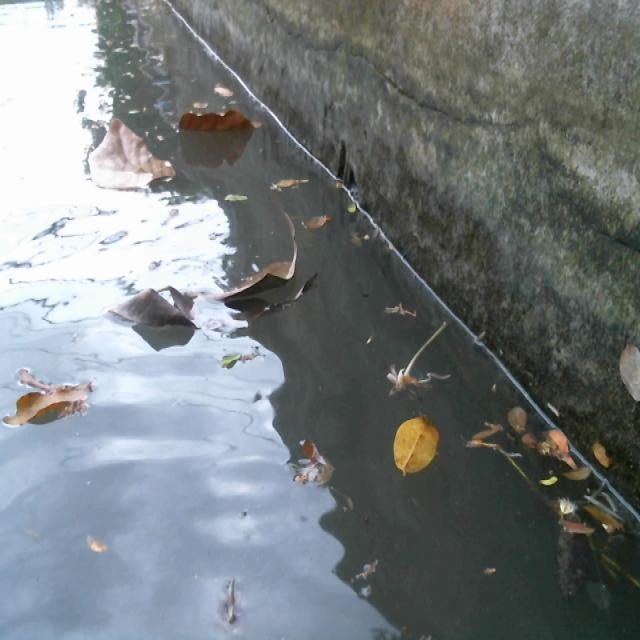Big-leaf: (101, 212, 302, 337), (72, 112, 179, 201), (2, 360, 98, 436), (182, 110, 267, 138)
Small-leaf: (392, 414, 472, 478), (285, 424, 339, 485), (552, 424, 593, 477), (392, 294, 442, 337), (497, 395, 542, 442), (220, 332, 275, 367), (213, 570, 245, 629), (555, 512, 606, 545), (74, 519, 114, 561), (268, 167, 317, 194), (591, 438, 618, 484), (306, 213, 332, 241), (215, 72, 233, 95), (193, 93, 211, 111)
